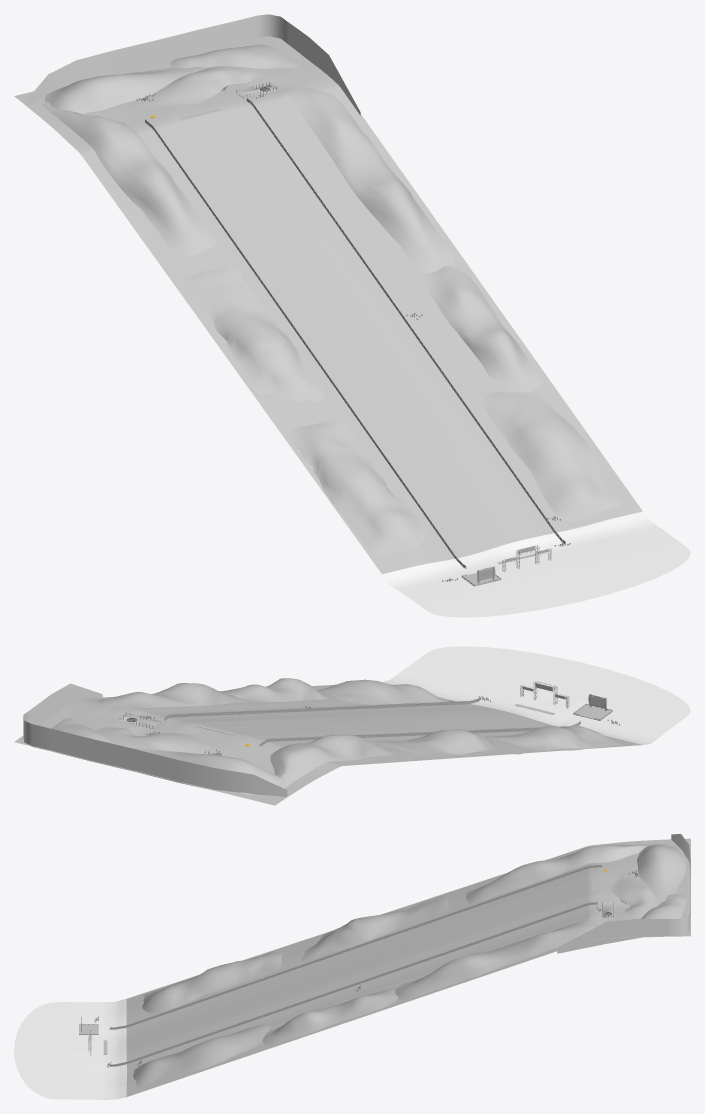
File: BG_TottoriSand_Ground.fbx
3 views of the same model, one above another, from view 1: azimuth 30°, elevation 25°; view 2: azimuth 150°, elevation 25°; view 3: azimuth 270°, elevation 25° (orthographic). The views are drawn at different scales.
Visible parts, largest first — view 1: Ground_Main_Sand, Ground_Sea, Ground_Grass_03, Ground_Grass_07, Ground_Grass_06, Ground_Grass_04, Ground_Grass_02, Ground_Sand_02, Mountain, Ground_Sand_01, Ground_Grass_05, Ground_Grass_01; view 2: Ground_Main_Sand, Ground_Sea, Mountain, Ground_Sand_02, Ground_Sand_01, Ground_Grass_02, Ground_Grass_03, Ground_Grass_07, Ground_Grass_06, Ground_Grass_04, Ground_Grass_05, Ground_Grass_01 (+3 smaller); view 3: Ground_Main_Sand, Ground_Sea, Ground_Grass_03, Ground_Sand_02, Ground_Sand_01, Ground_Grass_06, Ground_Grass_07, Ground_Grass_02, Ground_Grass_04, Mountain, Ground_Grass_05, Ground_Grass_01.
Part boxes in pixels (x1,y1,x2,y2): Ground_Main_Sand: [14, 36, 642, 588]; Ground_Sea: [408, 533, 690, 617]; Ground_Grass_03: [291, 88, 455, 273]; Ground_Grass_07: [475, 391, 622, 521]; Ground_Grass_06: [286, 419, 425, 557]; Ground_Grass_04: [180, 264, 325, 402]; Ground_Grass_02: [41, 102, 216, 258]; Ground_Sand_02: [382, 511, 667, 596]; Mountain: [27, 14, 360, 115]; Ground_Sand_01: [44, 66, 263, 117]; Ground_Grass_05: [420, 266, 542, 392]; Ground_Grass_01: [170, 44, 300, 68]; Ground_Main_Sand: [14, 683, 655, 805]; Ground_Sea: [408, 646, 690, 730]; Mountain: [23, 683, 287, 796]; Ground_Sand_02: [382, 667, 668, 744]; Ground_Sand_01: [96, 725, 281, 794]; Ground_Grass_02: [270, 734, 400, 788]; Ground_Grass_03: [96, 683, 250, 708]; Ground_Grass_07: [317, 679, 447, 704]; Ground_Grass_06: [484, 725, 626, 751]; Ground_Grass_04: [373, 729, 522, 757]; Ground_Grass_05: [221, 678, 335, 702]; Ground_Grass_01: [51, 717, 113, 743]; Ground_Main_Sand: [105, 838, 690, 1099]; Ground_Sea: [14, 1002, 104, 1099]; Ground_Grass_03: [395, 919, 595, 1000]; Ground_Sand_02: [87, 999, 126, 1099]; Ground_Sand_01: [604, 844, 685, 918]; Ground_Grass_06: [142, 949, 282, 1013]; Ground_Grass_07: [133, 1023, 270, 1088]; Ground_Grass_02: [465, 844, 668, 904]; Ground_Grass_04: [301, 895, 449, 960]; Mountain: [557, 834, 690, 953]; Ground_Grass_05: [262, 987, 398, 1046]; Ground_Grass_01: [641, 894, 687, 918].
Size of the model in its own units: 6394 by 5518 by 18727.
